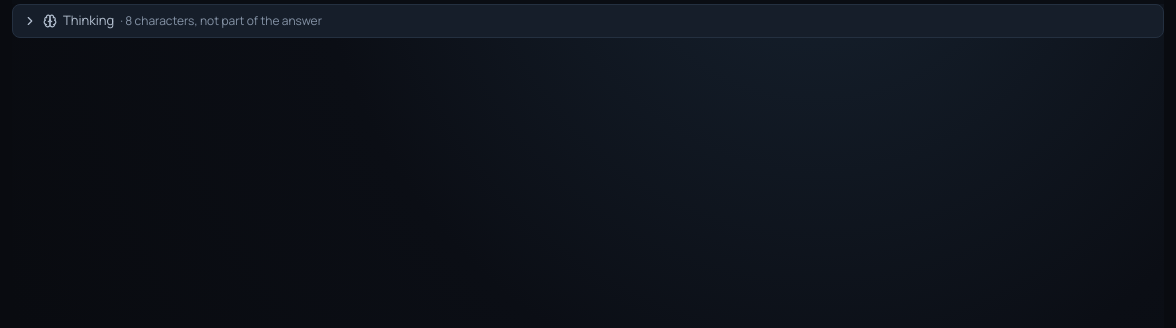
ThinkingBlock › expands after collapsing, and copies only the reasoning when the user asks
The width and height of the screenshot is (1176, 328).
Later steps or results of the test are not shown.
Expected: the button "Copy thinking" is not shown
Click the button "Thinking · 8 characters, not part of the answer" at (89, 20), box x1=13 y1=5 x2=1163 y2=36
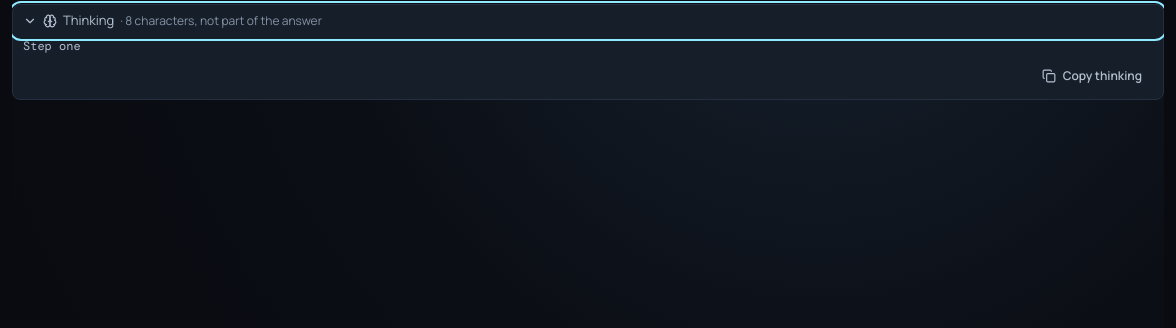
Now the text "Step one" is shown, box x1=23 y1=38 x2=81 y2=54
